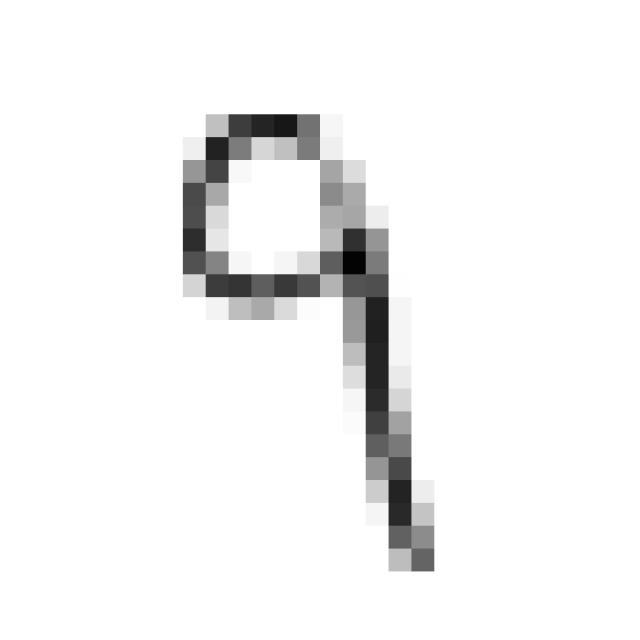9 -nine-: (162, 91, 448, 587)
